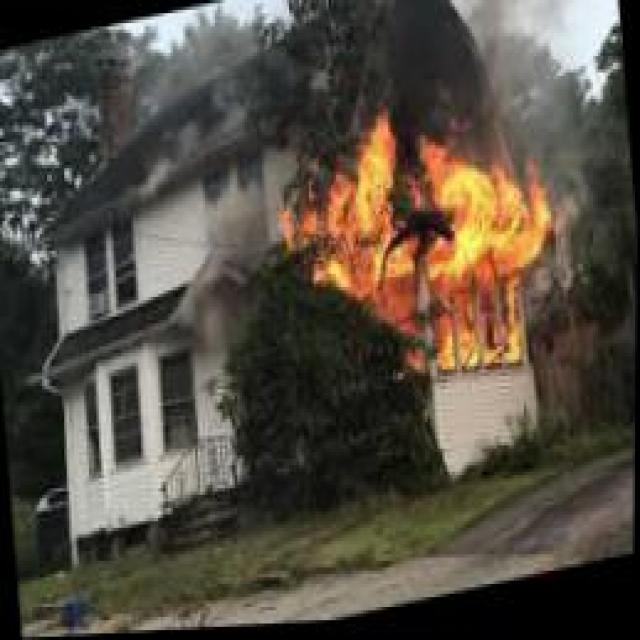Fire: (279, 112, 578, 432)
Smoke: (108, 10, 270, 214), (166, 165, 282, 376), (440, 0, 613, 125)
